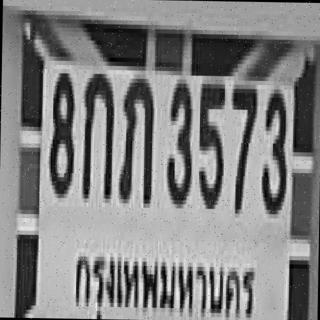A01: (81, 69, 113, 195)
A32: (117, 74, 153, 200)
N03: (164, 79, 191, 204), (260, 85, 286, 210)
N05: (197, 80, 223, 204)
N07: (229, 84, 256, 210)
N08: (47, 69, 74, 194)
P04: (73, 233, 254, 320)
